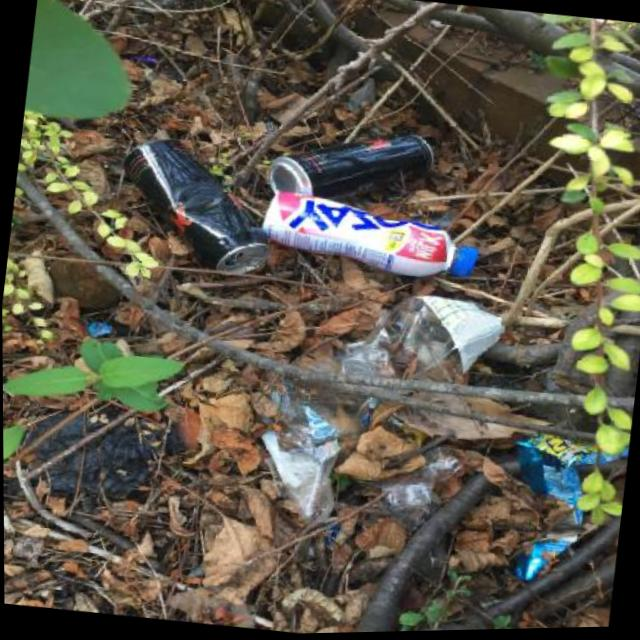metal: (110, 131, 284, 284), (265, 116, 437, 216)
plastic: (255, 185, 485, 287)
